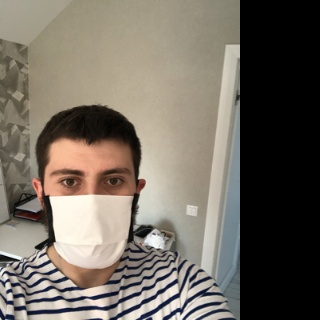with_mask: (41, 158, 137, 269)
